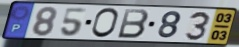3: (182, 10, 211, 41)
5: (59, 6, 86, 38)
8: (31, 6, 59, 38), (156, 11, 182, 40)
B: (116, 8, 151, 40)
O: (89, 7, 120, 40)
